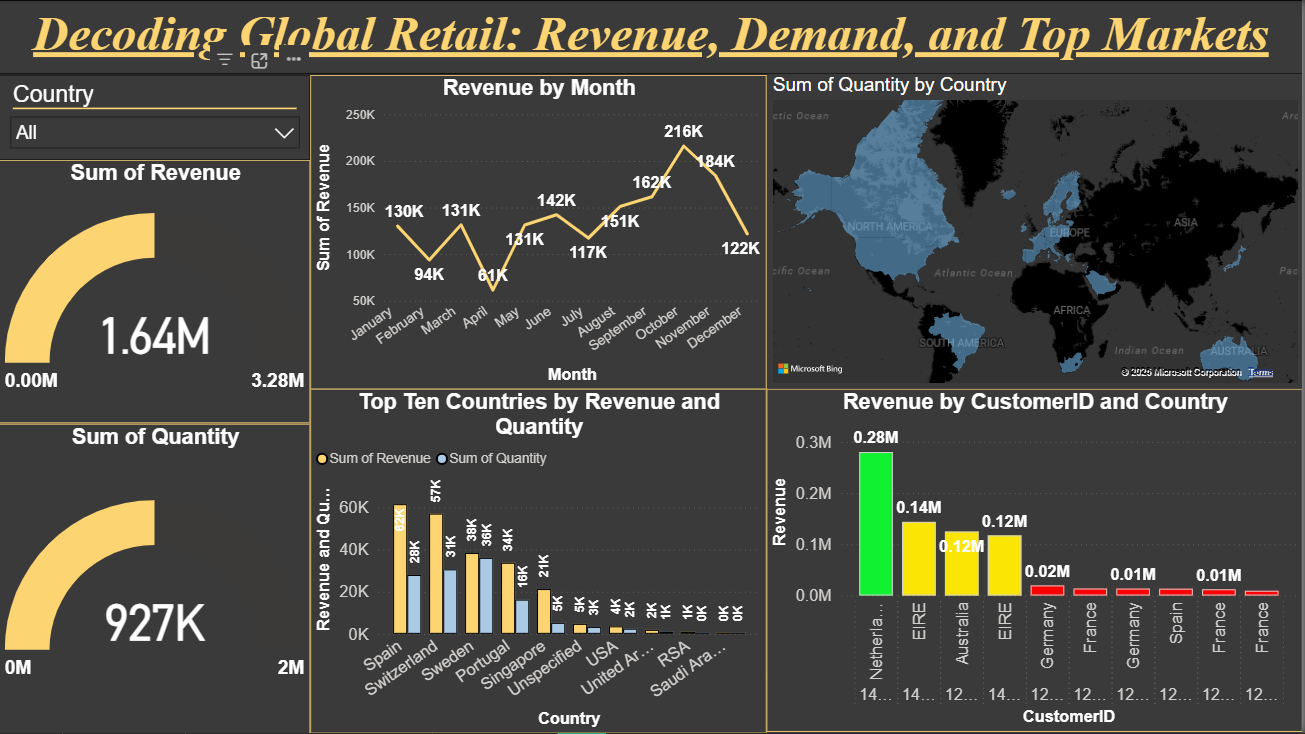

What the dashboard file says about the page in this screenshot:
{"tool":"powerbi","page":{"name":"Dashboard","canvas":[1280,720],"ordinal":4},"visuals":[{"type":"lineChart","title":" Revenue by Month","fields":{"Category":["Online Retail.InvoiceDate.Variation.Date Hierarchy.Month"],"Y":["Sum(Online Retail.Revenue)"]},"box":[305.9,73.1,448,308.6],"z":0},{"type":"clusteredColumnChart","title":"Top Ten Countries by Revenue and Quantity","fields":{"Category":["Online Retail.Country"],"Y":["Sum(Online Retail.Revenue)","Sum(Online Retail.Quantity)"]},"box":[305.9,381.6,448,338.3],"z":1000},{"type":"clusteredColumnChart","title":"Revenue by CustomerID and Country","fields":{"Category":["Online Retail.CustomerID","Online Retail.Country"],"Y":["Sum(Online Retail.Revenue)"]},"box":[753.8,381.6,526.5,337],"z":2000},{"type":"textbox","box":[0,0,1280.3,73.1],"z":3000},{"type":"gauge","fields":{"Y":["Sum(Online Retail.Revenue)"]},"box":[0,157,305.9,258.5],"z":4000},{"type":"gauge","fields":{"Y":["Sum(Online Retail.Quantity)"]},"box":[0,415.5,305.9,304.5],"z":5000},{"type":"slicer","fields":{"Values":["Online Retail.Country"]},"box":[0,73.1,305.9,83.9],"z":6000},{"type":"filledMap","fields":{"Category":["Online Retail.Country"]},"box":[754,73,526,309],"z":7000}]}

Visuals, with their boxes in screenshot pixels (x1, y1, x2, y2), scaled from the page's 1280x720 canvas onto the 1305x734 screenshot:
" Revenue by Month" lineChart: <region>312, 75, 769, 389</region>
"Top Ten Countries by Revenue and Quantity" clusteredColumnChart: <region>312, 389, 769, 733</region>
"Revenue by CustomerID and Country" clusteredColumnChart: <region>769, 389, 1304, 733</region>
textbox: <region>0, 0, 1304, 75</region>
gauge - Sum(Online Retail.Revenue): <region>0, 160, 312, 424</region>
gauge - Sum(Online Retail.Quantity): <region>0, 424, 312, 733</region>
slicer - Online Retail.Country: <region>0, 75, 312, 160</region>
filledMap - Online Retail.Country: <region>769, 74, 1304, 389</region>
